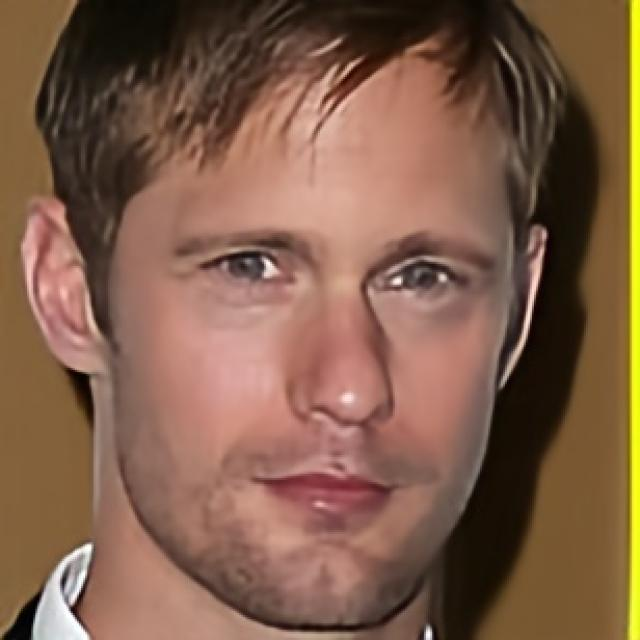content: (114, 66, 511, 628)
